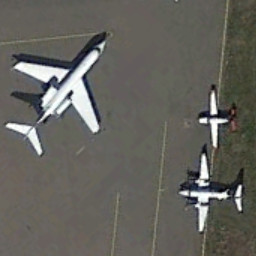Airplane: (2, 25, 117, 160), (176, 150, 249, 236), (193, 80, 246, 152)
